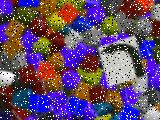Left: (98, 35, 146, 87)
